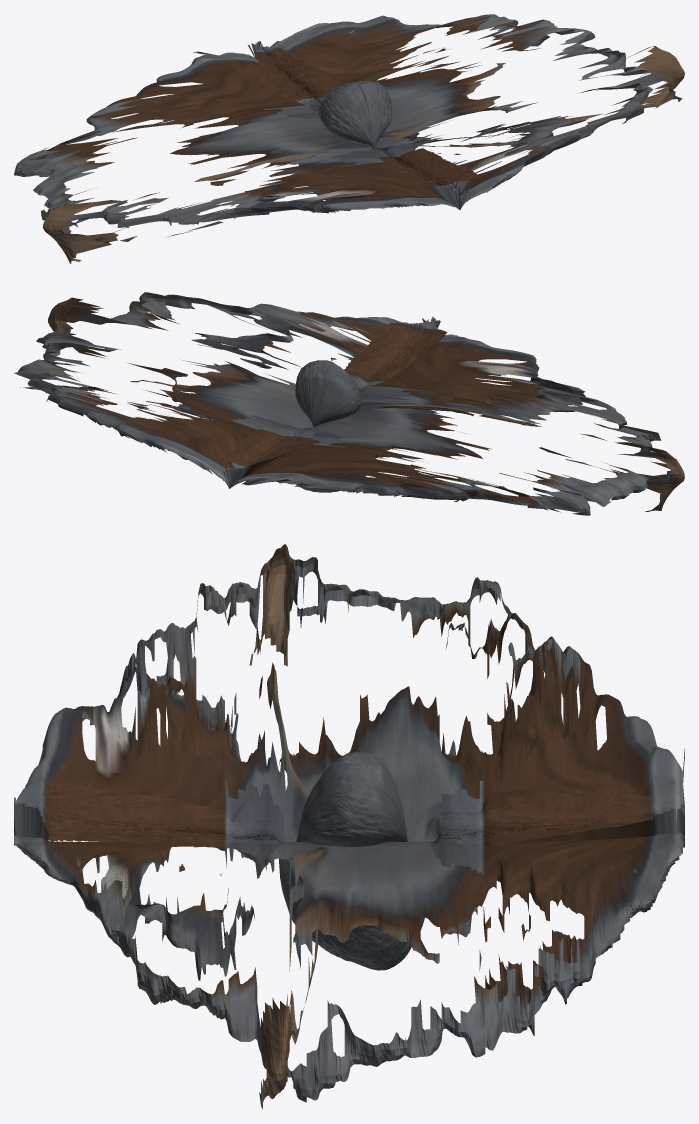
The picture shows the model from 3 angles, top to bottom: view 1: azimuth 30°, elevation 25°; view 2: azimuth 150°, elevation 25°; view 3: azimuth 270°, elevation 25°; orthographic projection. The views are drawn at different scales.
Visible parts, largest first — view 1: geometry_0; view 2: geometry_0; view 3: geometry_0.
Part boxes in pixels (box(x1,y1,x2,y2)): geometry_0: box(14, 14, 684, 263); geometry_0: box(14, 292, 684, 515); geometry_0: box(14, 544, 684, 1109).
Size of the model in its own units: 1.88 by 0.3455 by 1.04.
Materials: 1 (1 with a texture image).
